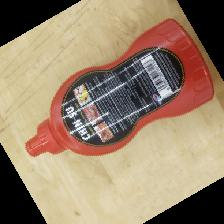Chinsu: (25, 18, 214, 160)
